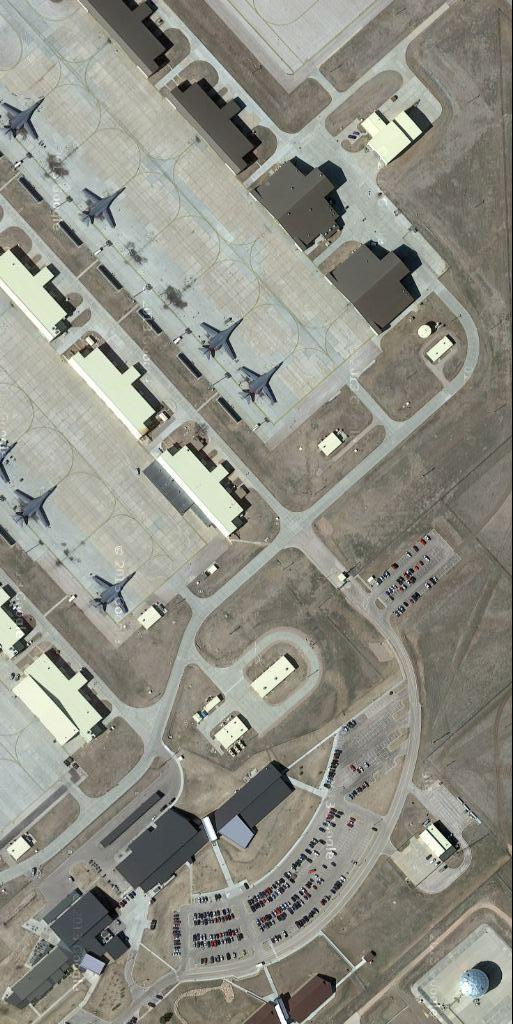B-1B: (87, 568, 138, 616), (196, 316, 246, 363), (3, 94, 48, 146), (77, 185, 128, 230), (236, 359, 284, 406), (11, 483, 60, 528)
